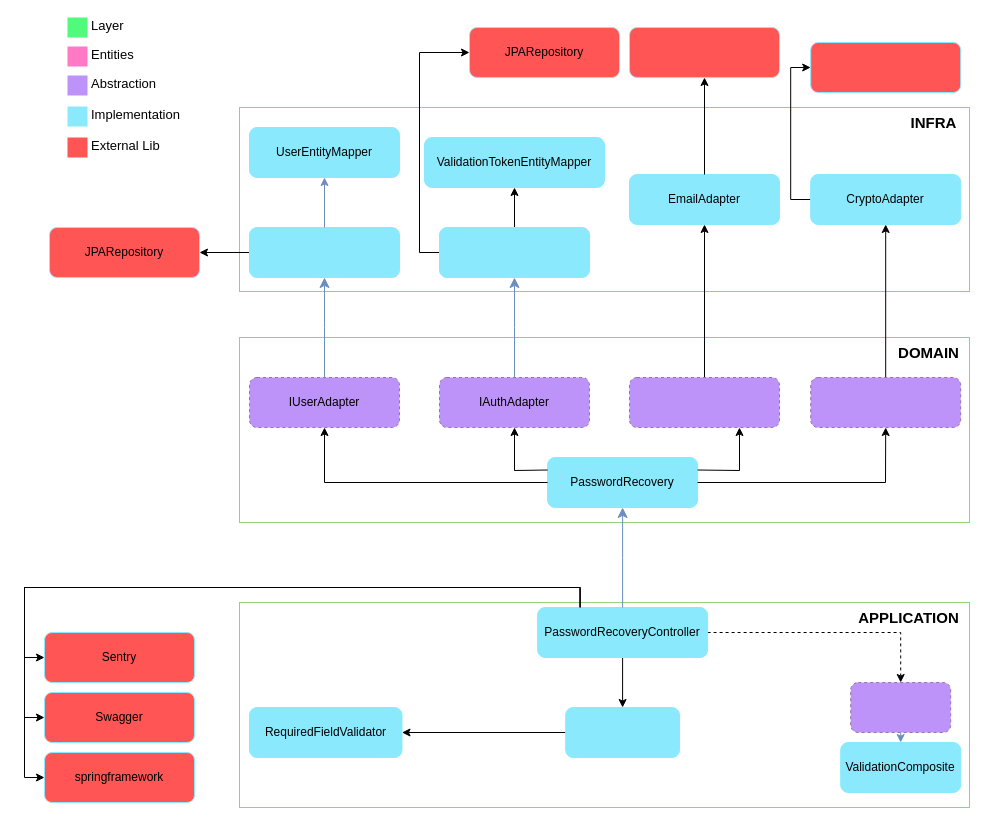
Some shapes in this 987 by 825 pixel diagram are drawn without their labels. Each missing label, with the centre of its shape:
AuthAdapter: [514,252]
Controller: [900,707]
DigestUtils: [885,67]
ICryptoAdapter: [885,402]
IEmailAdapter: [704,402]
JavaMailSender: [704,52]
UserAdapter: [324,252]
ValidationBuilder: [622,732]
